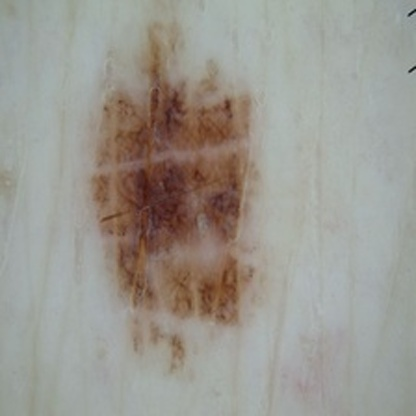malignant: (95, 95, 256, 307)
